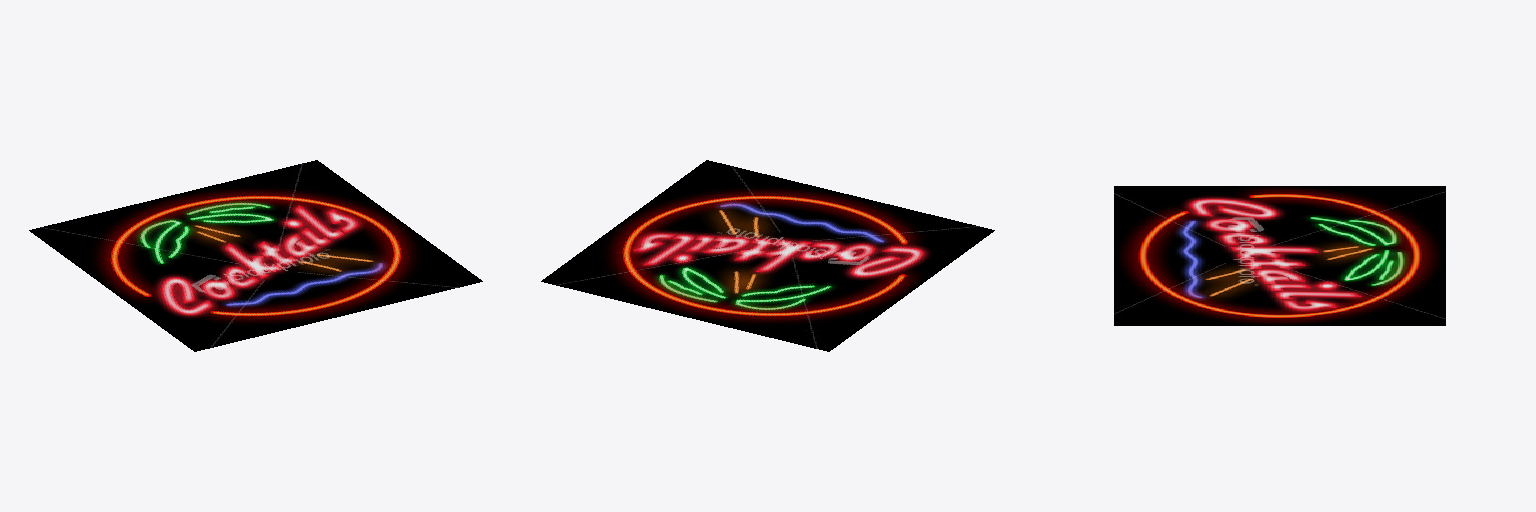
3 renders of one model, left to right at view 1: azimuth 30°, elevation 25°; view 2: azimuth 150°, elevation 25°; view 3: azimuth 270°, elevation 25°, orthographic.
Parts seen in each view (by area): view 1: Plane01; view 2: Plane01; view 3: Plane01.
Boxes of the visible parts, <box> form: Plane01: <box>29,160,482,351</box>; Plane01: <box>541,160,994,351</box>; Plane01: <box>1114,186,1445,325</box>.
Bounding box in the file's own units: 26.47 × 0 × 26.39.
1 materials, 1 textured.